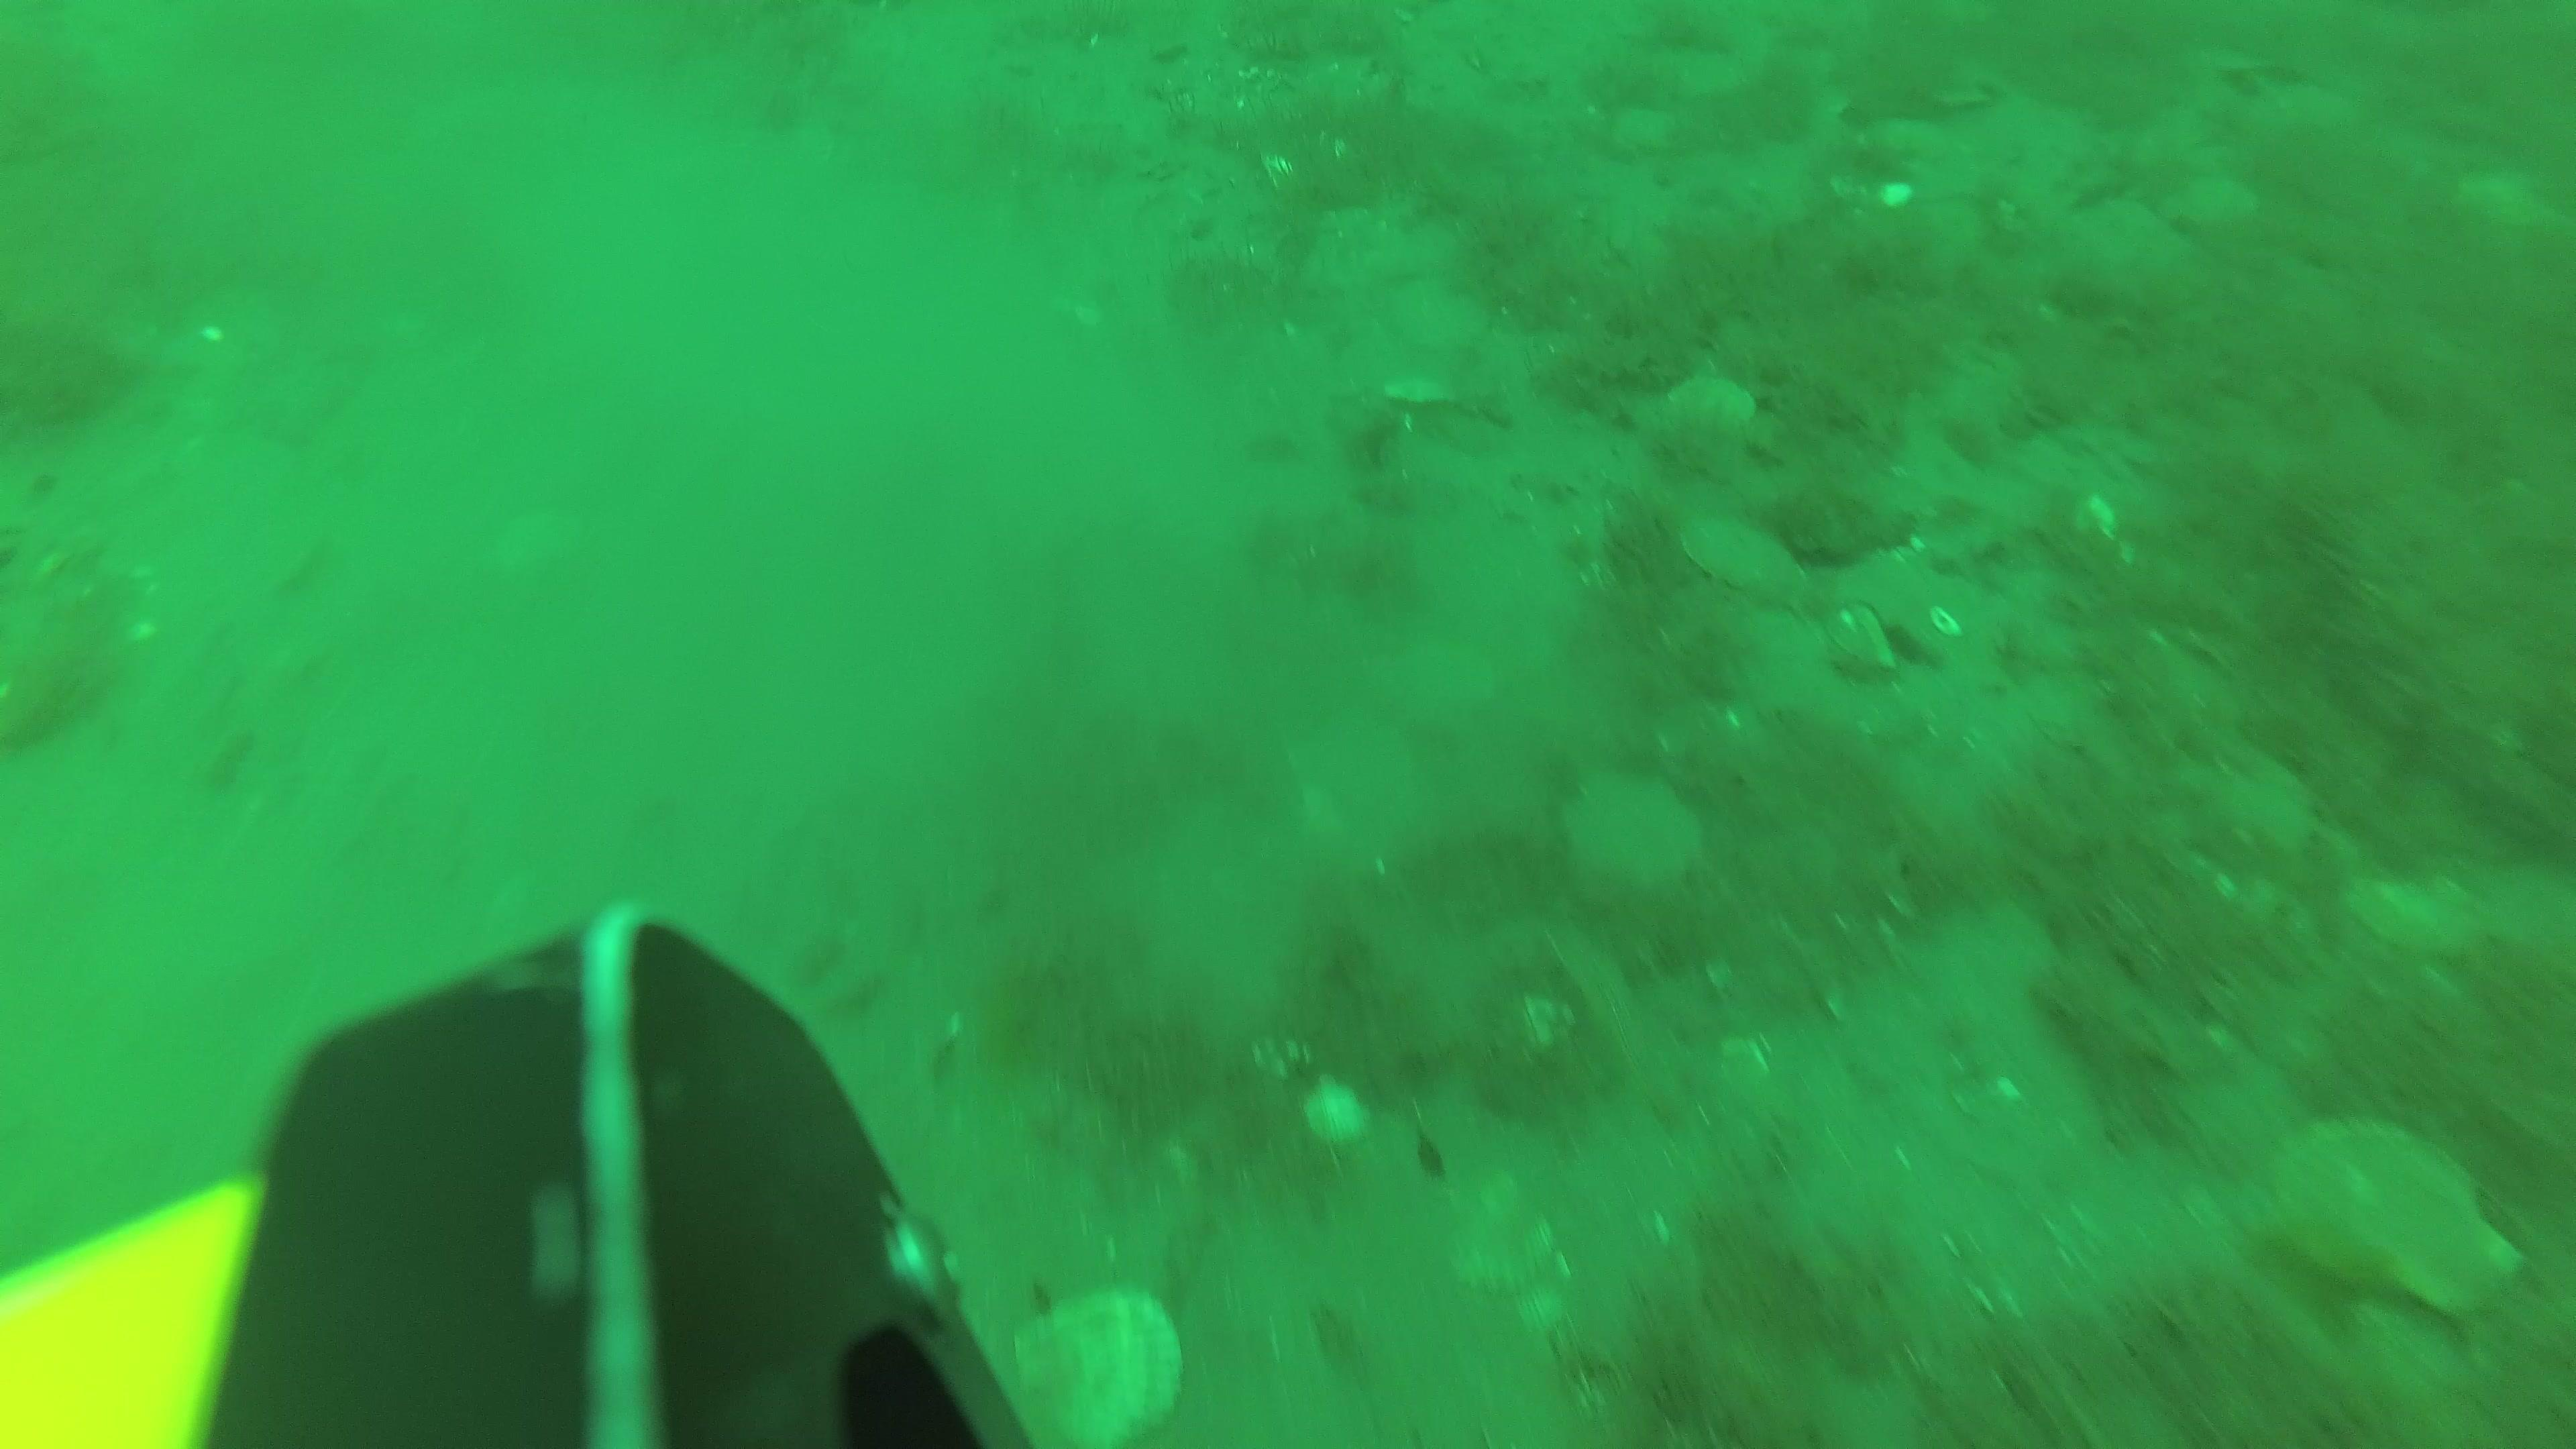scallop: (2261, 1108, 2532, 1320), (994, 1290, 1191, 1449), (1433, 1171, 1585, 1341), (1560, 761, 1714, 902), (2335, 860, 2496, 968), (1672, 508, 1821, 602), (1665, 366, 1762, 441), (1292, 1072, 1385, 1146)
